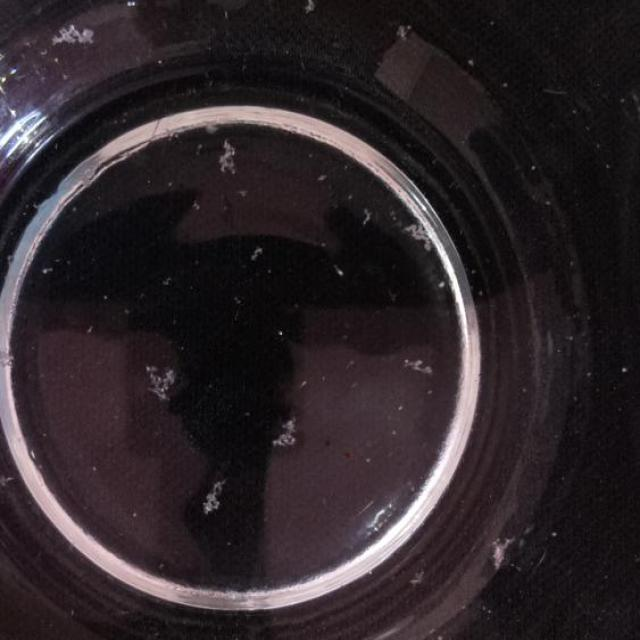fiber: (142, 364, 181, 411), (272, 409, 303, 449), (484, 526, 514, 566), (212, 138, 238, 182), (202, 478, 230, 514), (405, 223, 440, 251), (56, 25, 96, 48), (410, 360, 435, 380), (403, 568, 430, 586), (0, 465, 18, 491), (246, 240, 263, 263), (394, 22, 418, 38), (357, 205, 374, 227), (301, 0, 319, 19)
